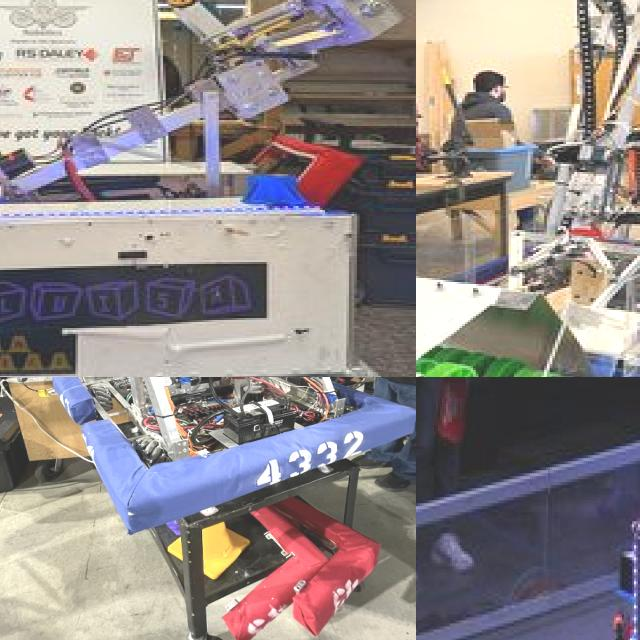FRC-Robots: (416, 0, 640, 377), (43, 377, 416, 528), (515, 472, 640, 640)
